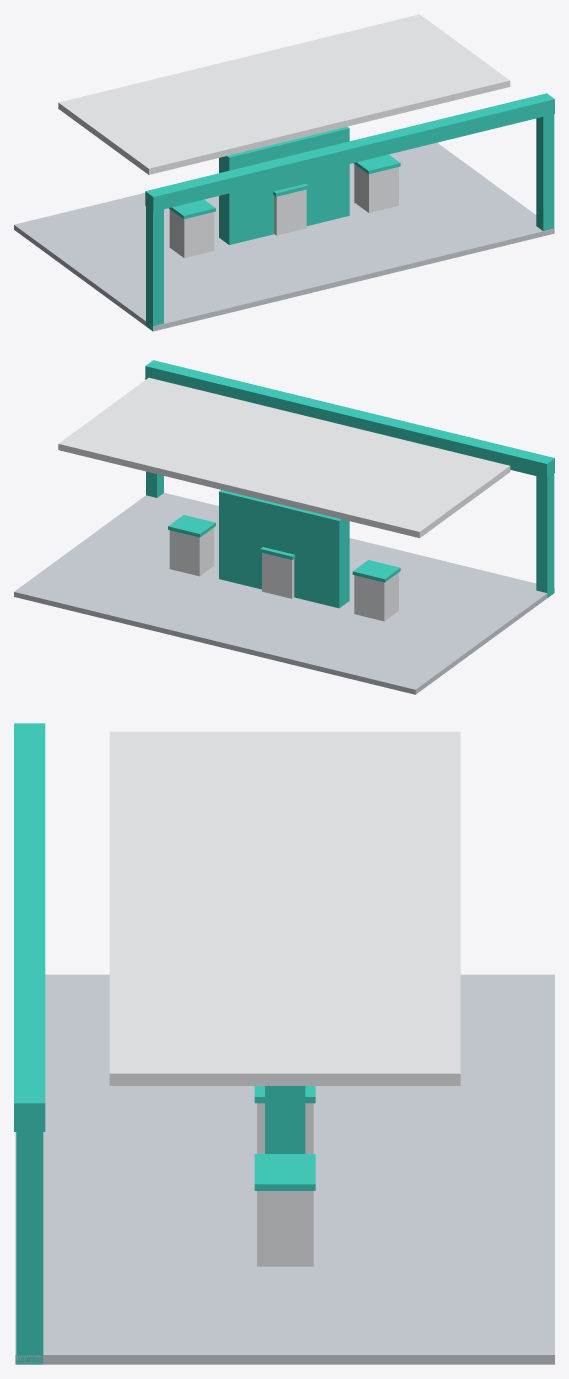
The picture shows the model from 3 angles, top to bottom: view 1: azimuth 30°, elevation 25°; view 2: azimuth 150°, elevation 25°; view 3: azimuth 270°, elevation 25°; orthographic projection. The views are drawn at different scales.
Parts seen in each view (by area): view 1: Exhibition Booth Concept; view 2: Exhibition Booth Concept; view 3: Exhibition Booth Concept.
Part boxes in pixels (bbox=[...]): Exhibition Booth Concept: bbox=[14, 14, 554, 331]; Exhibition Booth Concept: bbox=[14, 360, 554, 694]; Exhibition Booth Concept: bbox=[14, 723, 554, 1364].
Bounding box in the file's own units: 10 × 3.34 × 6.02.
